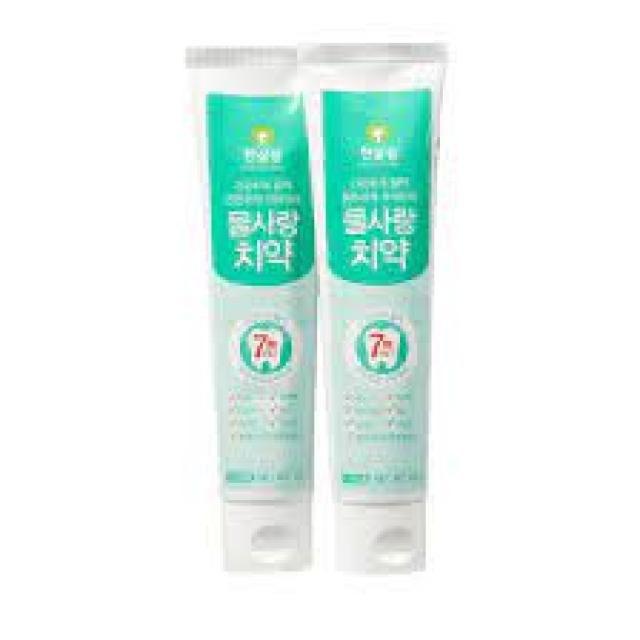toothpaste: (177, 35, 336, 588), (302, 28, 439, 575)
